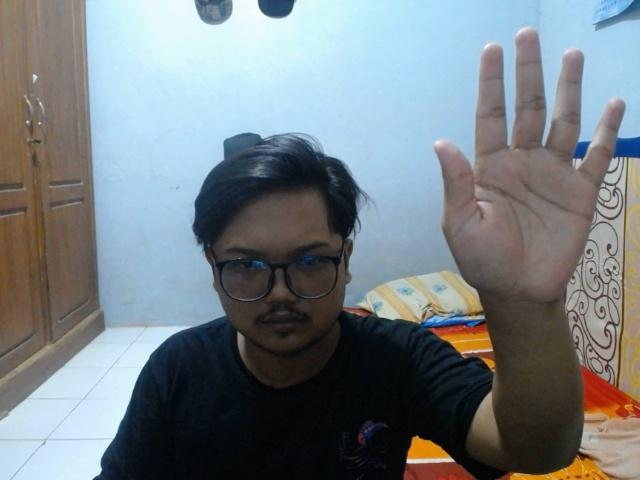Release: (428, 23, 628, 312)
